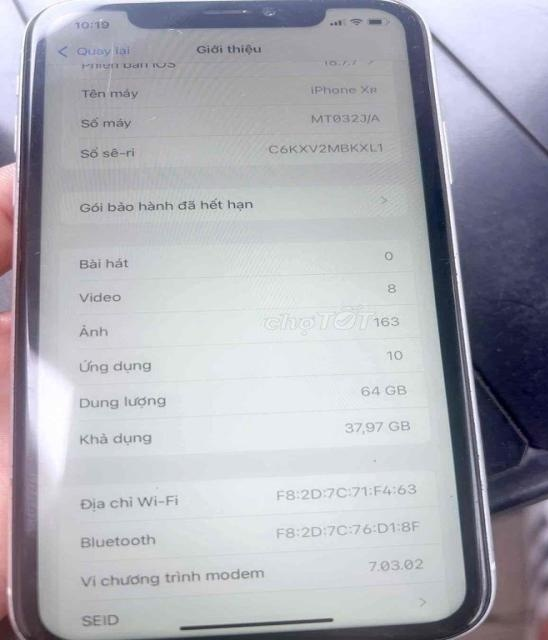scratch: (63, 4, 238, 136), (237, 0, 431, 70), (25, 35, 55, 185), (27, 282, 61, 323), (19, 243, 64, 273)
